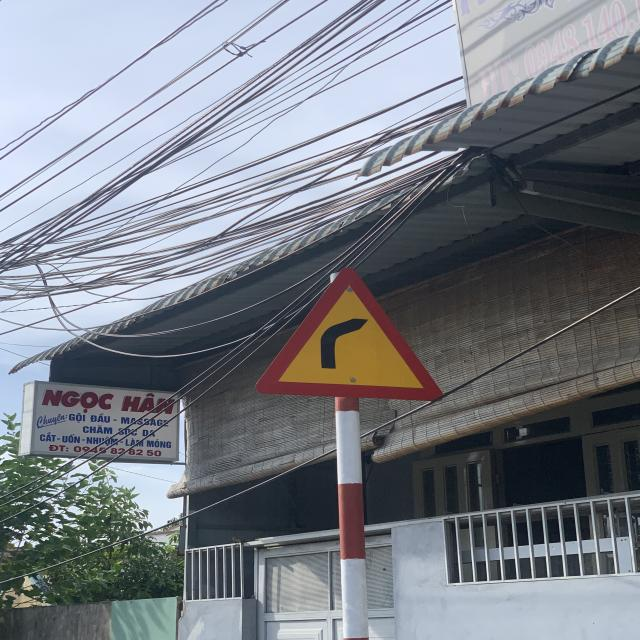Duong_Nguoi_Di_Bo_Cat_Ngang: (254, 267, 443, 400)
